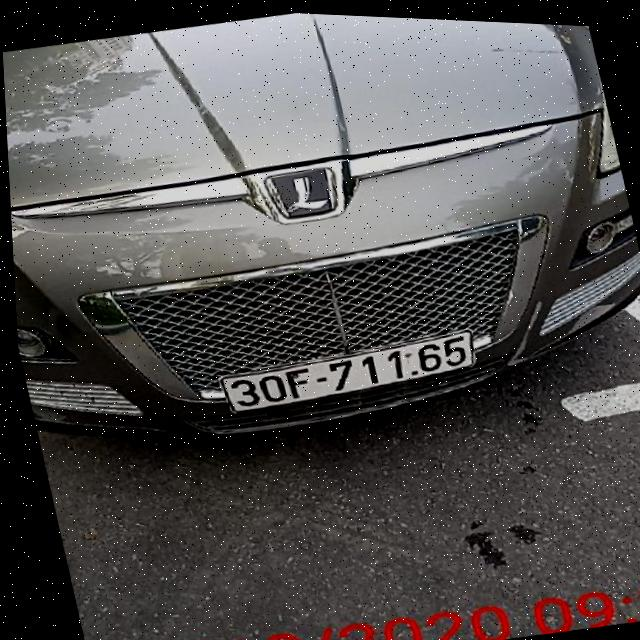car: (0, 0, 640, 501)
plate: (309, 324, 481, 405)
